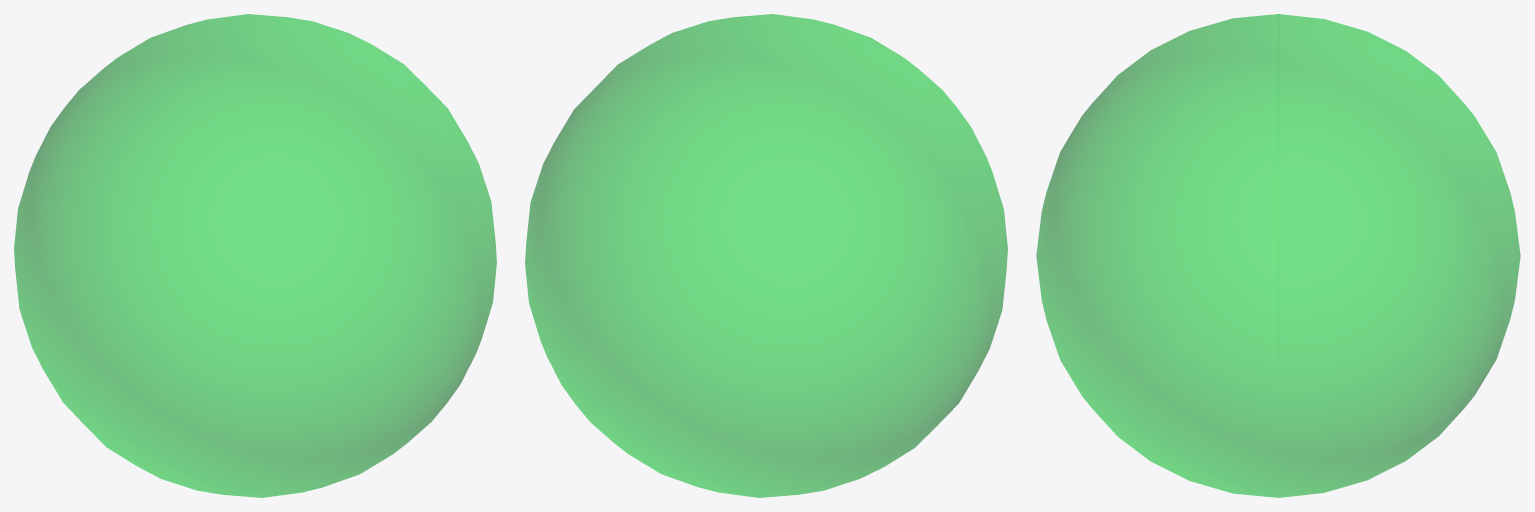
File: StartRegion.obj
3 views of the same model, side by side, from view 1: azimuth 30°, elevation 25°; view 2: azimuth 150°, elevation 25°; view 3: azimuth 270°, elevation 25° (orthographic).
Size of the model in its own units: 1 by 1 by 1.
